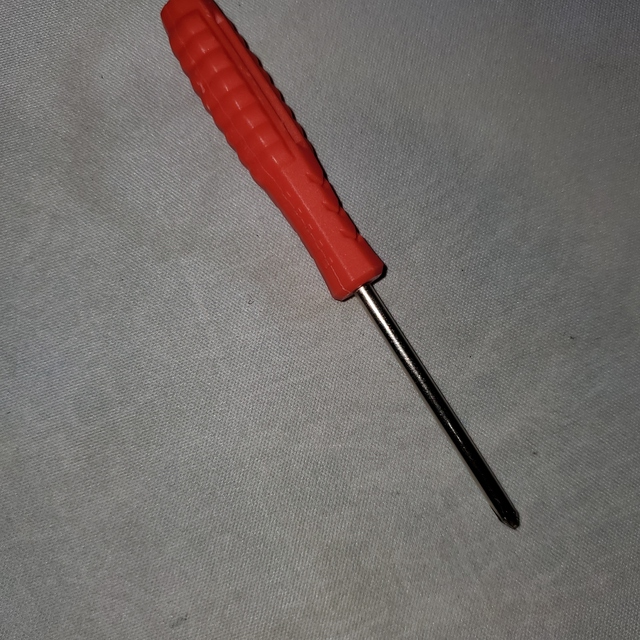screwdriver: (149, 0, 537, 543)
